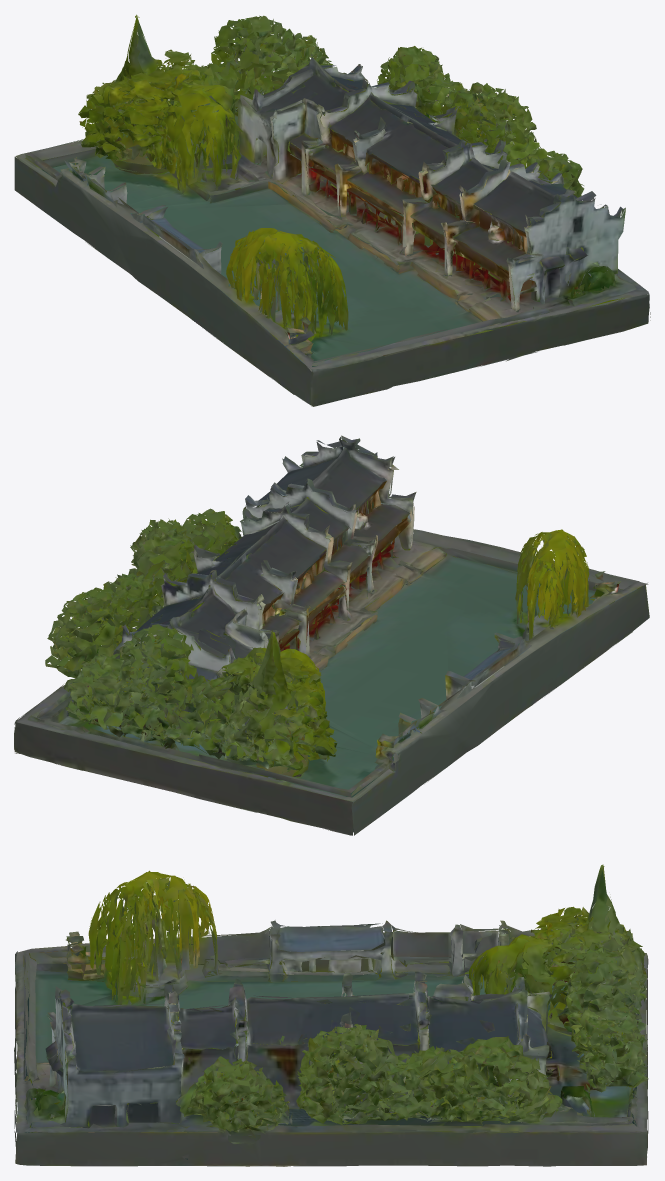
The model's file is nanxun-mobile.glb.
3 views of the same model, one above another, from view 1: azimuth 30°, elevation 25°; view 2: azimuth 150°, elevation 25°; view 3: azimuth 270°, elevation 25° (orthographic). The views are drawn at different scales.
Parts seen in each view (by area): view 1: nanxun_lux3d; view 2: nanxun_lux3d; view 3: nanxun_lux3d.
Boxes of the visible parts, box(x1,y1,x2,y2) form: nanxun_lux3d: box(14, 14, 650, 406); nanxun_lux3d: box(14, 435, 649, 835); nanxun_lux3d: box(14, 864, 648, 1166).
Bounding box in the file's own units: 4.37 × 1.87 × 6.03.
2 materials, 1 textured.
